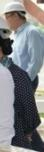hard-hat: (0, 11, 21, 36)
